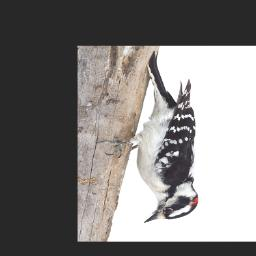Woodpecker: (96, 50, 201, 225)
